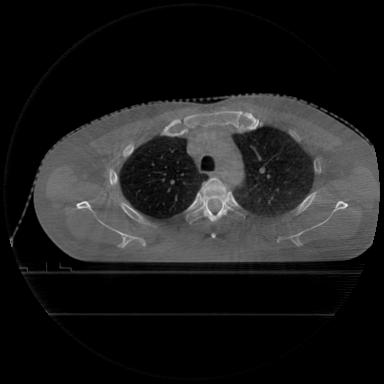body: (34, 95, 380, 262)
cord: (185, 178, 245, 224)
paru kanan: (119, 138, 204, 219)
paru kiri: (234, 126, 314, 216)
